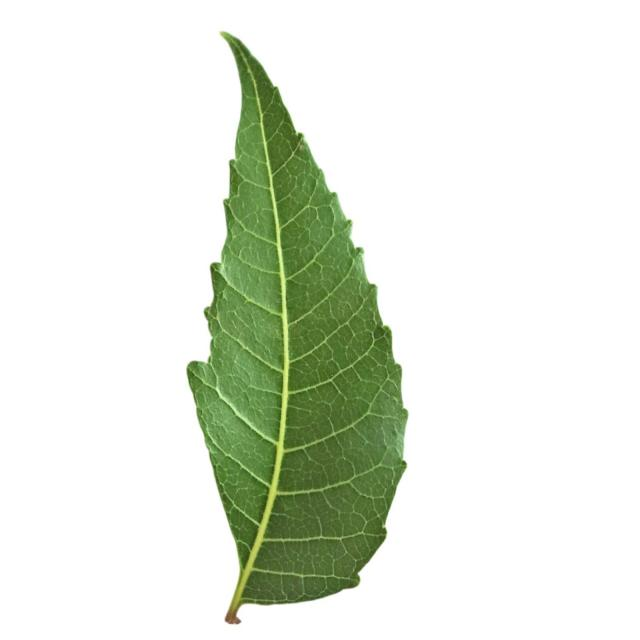Medicinal-Neem: (186, 29, 409, 624)
